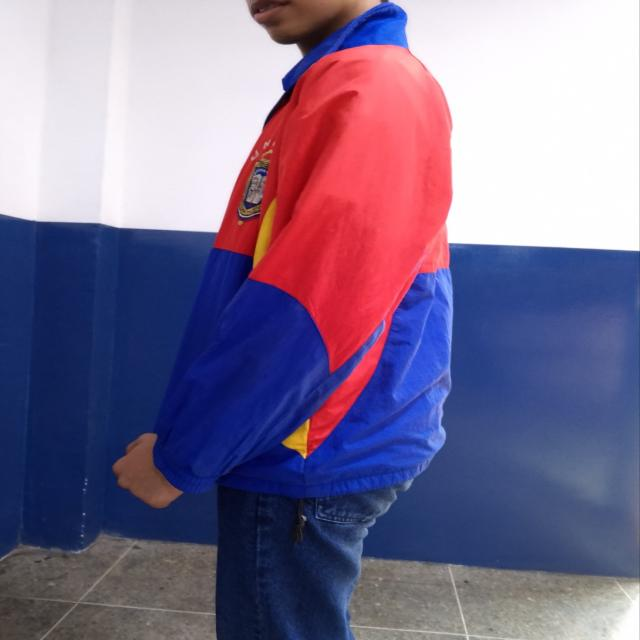chaqueta_unefa: (150, 1, 457, 501)
